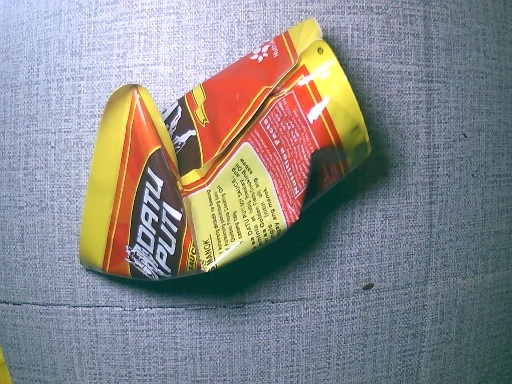plastic: (65, 17, 374, 280)
